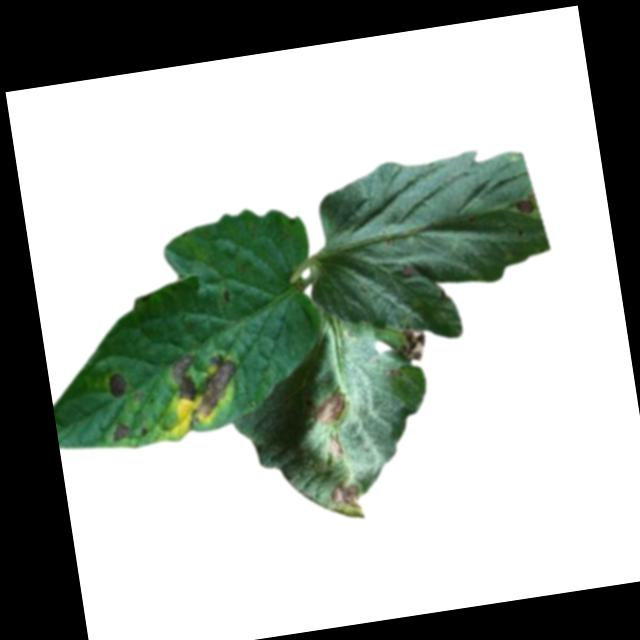Early_blight: (168, 345, 243, 424), (313, 390, 351, 428), (397, 324, 431, 366), (329, 481, 363, 513), (103, 370, 128, 402), (110, 416, 132, 447), (511, 195, 535, 219), (328, 430, 345, 458), (401, 261, 418, 284)
